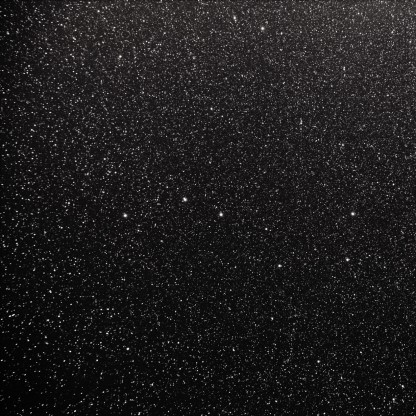Ursa Major: (337, 248, 360, 271), (113, 204, 136, 226), (340, 202, 363, 224), (210, 205, 230, 225), (272, 257, 292, 276), (175, 187, 192, 208), (257, 219, 274, 239)
